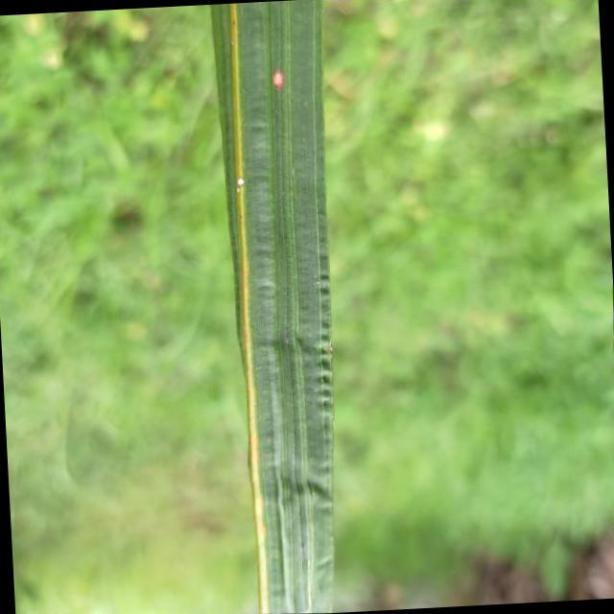Boron: (206, 0, 331, 614)
